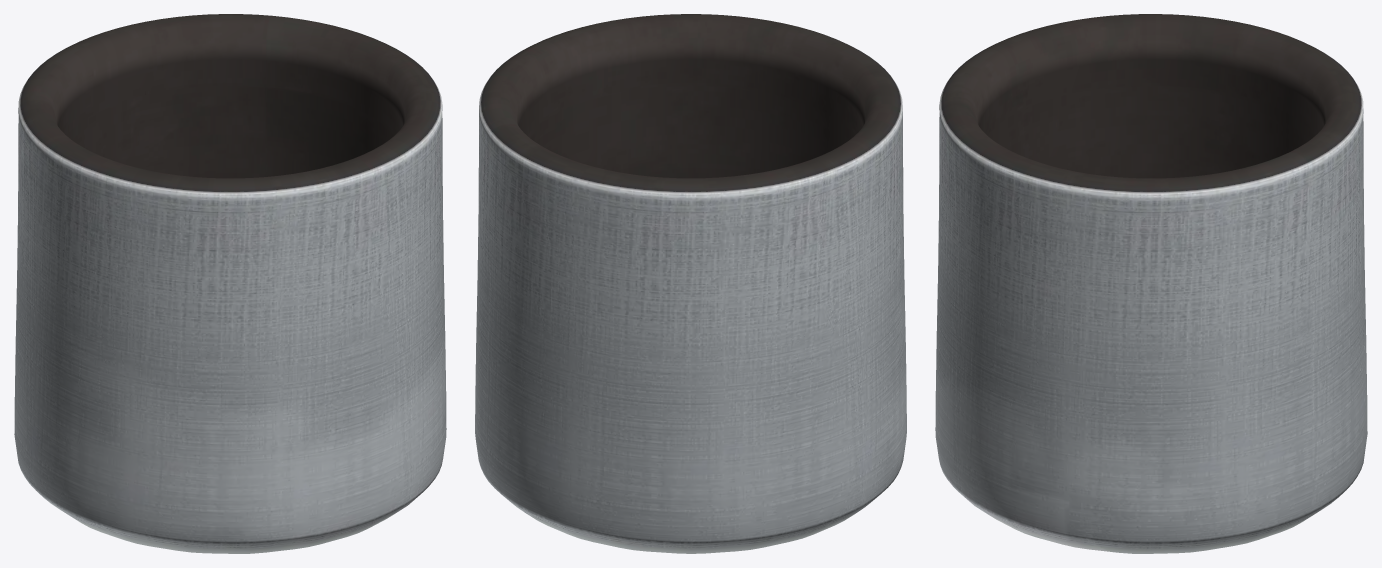
Rendered from B075HR7LHQ.glb.
3 views of the same model, side by side, from view 1: azimuth 30°, elevation 25°; view 2: azimuth 150°, elevation 25°; view 3: azimuth 270°, elevation 25° (orthographic).
Visible parts, largest first — view 1: RootNode; view 2: RootNode; view 3: RootNode.
Part boxes in pixels (box(x1,y1,x2,y2)): RootNode: box(14, 14, 446, 553); RootNode: box(475, 14, 906, 553); RootNode: box(935, 14, 1367, 553).
Size of the model in its own units: 0.1603 by 0.1555 by 0.1603.
Materials: 1 (1 with a texture image).
